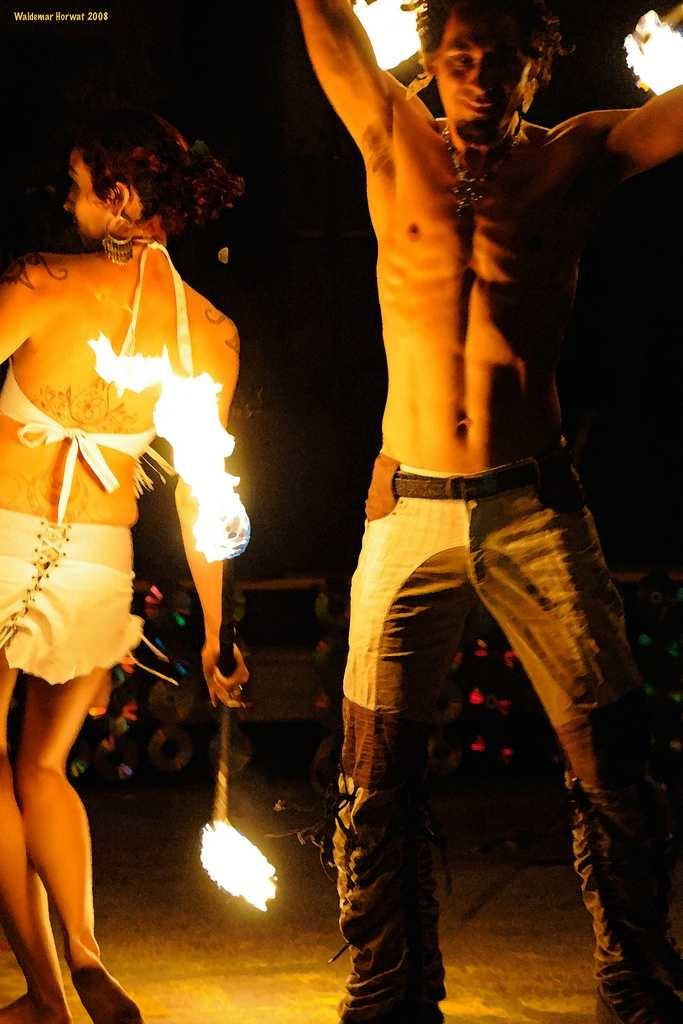fire: (102, 325, 270, 560), (190, 805, 290, 915), (345, 8, 435, 72), (608, 15, 683, 88)
